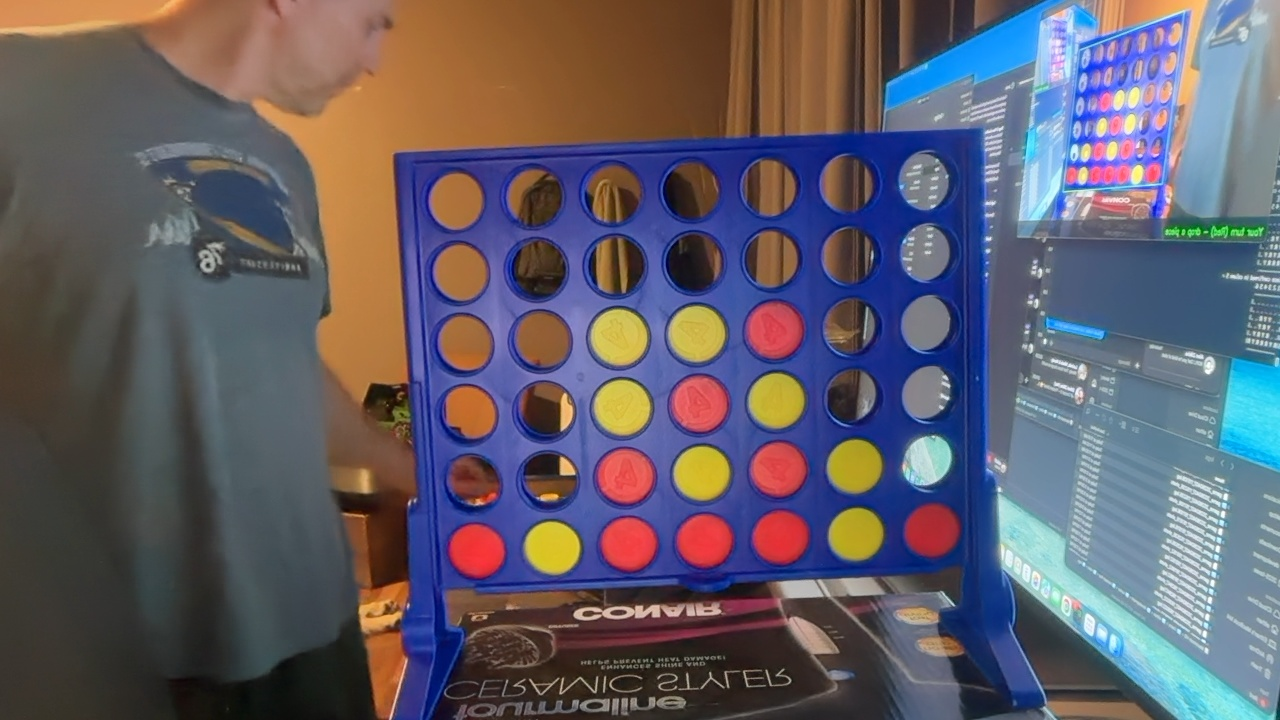red piece: (746, 300, 804, 360), (670, 375, 728, 433), (596, 448, 655, 505), (749, 441, 808, 498), (447, 524, 505, 579), (676, 514, 733, 569), (600, 517, 657, 572), (752, 510, 809, 565), (904, 503, 961, 558)
yellow piece: (588, 308, 649, 368), (667, 304, 727, 363), (592, 378, 652, 437), (747, 372, 805, 430), (673, 445, 731, 501), (826, 439, 883, 494), (524, 521, 581, 575), (828, 508, 884, 561)
